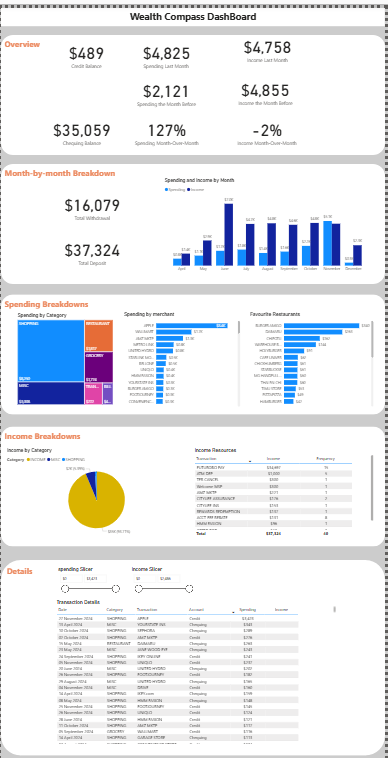

Layout of this report page (visuals, bound fields, positions):
{"tool":"powerbi","page":{"name":"Page 1","canvas":[1280,2520],"ordinal":0},"visuals":[{"type":"shape","box":[0,1838.3,1280,651.7],"z":0},{"type":"shape","box":[0,1396.7,1280,400],"z":1000},{"type":"shape","box":[0,956.7,1280,400],"z":2000},{"type":"shape","box":[0,520,1280,400],"z":3000},{"type":"shape","box":[0,88.3,1280,400],"z":4000},{"type":"card","fields":{"Values":["Transaction.latest credit balance"]},"box":[175,100,218.3,110],"z":5000},{"type":"card","fields":{"Values":["Transaction.latest chequing balance"]},"box":[158.3,343.3,218.3,130],"z":6000},{"type":"card","fields":{"Values":["Transaction.income one month ago"]},"box":[768.3,78.3,235,111.7],"z":7000},{"type":"card","fields":{"Values":["Transaction.spending two month ago"]},"box":[436.7,216.7,231.7,130],"z":8000},{"type":"card","fields":{"Values":["Transaction.spending month-over-month"]},"box":[435,346.7,233.3,131.7],"z":9000},{"type":"textbox","box":[0,0,1279.4,60.5],"z":10000},{"type":"card","fields":{"Values":["Transaction.spending past 30 days"]},"box":[436.7,98.3,233.3,111.7],"z":11000},{"type":"card","fields":{"Values":["Transaction.income two month ago"]},"box":[766.7,210,231.7,133.3],"z":12000},{"type":"card","fields":{"Values":["Transaction.income month-over-month"]},"box":[768.3,346.7,231.7,130],"z":13000},{"type":"clusteredColumnChart","fields":{"Category":["Transaction.Date.Variation.Date Hierarchy.Year","Transaction.Date.Variation.Date Hierarchy.Month","Transaction.Date.Variation.Date Hierarchy.Day"],"Y":["Sum(Transaction.Withdrawal)","Sum(Transaction.Deposit)"]},"box":[538.3,565,696.7,323.3],"z":14000},{"type":"card","fields":{"Values":["Sum(Transaction.Withdrawal)"]},"box":[175,596.7,256.7,130],"z":15000},{"type":"card","fields":{"Values":["Sum(Transaction.Deposit)"]},"box":[175,745,256.7,130],"z":16000},{"type":"treemap","title":"Spending by Category","fields":{"Group":["Transaction.Category"],"Values":["Sum(Transaction.Withdrawal)"]},"box":[48.3,1016.7,328.3,311.7],"z":17000},{"type":"clusteredBarChart","title":"Spending by merchant","fields":{"Category":["Transaction.Transaction_Description"],"Y":["Sum(Transaction.Withdrawal)"]},"box":[405,1011.7,396.7,323.3],"z":18000},{"type":"clusteredBarChart","title":"Favourite Restaurants","fields":{"Category":["Transaction.Transaction_Description"],"Y":["Sum(Transaction.Withdrawal)"]},"box":[825,1011.7,421.7,323.3],"z":19000},{"type":"pieChart","title":"Income by Category","fields":{"Category":["Transaction.Category"],"Y":["Sum(Transaction.Deposit)"]},"box":[16.7,1463.3,606.7,300],"z":20000},{"type":"tableEx","title":"Income Resources","fields":{"Values":["Transaction.Transaction_Description","Sum(Transaction.Deposit)","CountNonNull(Transaction.Deposit)"]},"box":[640,1463.3,606.7,300],"z":21000},{"type":"tableEx","title":"Transaction Details","fields":{"Values":["Transaction.Date","Transaction.Category","Transaction.Transaction_Description","Transaction.Account_Type","Transaction.Withdrawal","Transaction.Deposit"]},"box":[180,1971.7,941.7,486.7],"z":22000},{"type":"slicer","title":"Income Slicer","fields":{"Values":["Transaction.Deposit"]},"box":[431.7,1860,218.3,98.3],"z":23000},{"type":"slicer","title":"spending Slicer","fields":{"Values":["Transaction.Withdrawal"]},"box":[186.7,1860,218.3,98.3],"z":24000}]}

Visuals, with their boxes in screenshot pixels (x1, y1, x2, y2), scaled from the page's 1280x2520 canvas onto the 388x758 screenshot:
shape: [x1=0, y1=553, x2=387, y2=749]
shape: [x1=0, y1=420, x2=387, y2=540]
shape: [x1=0, y1=288, x2=387, y2=408]
shape: [x1=0, y1=156, x2=387, y2=277]
shape: [x1=0, y1=27, x2=387, y2=147]
card - Transaction.latest credit balance: [x1=53, y1=30, x2=119, y2=63]
card - Transaction.latest chequing balance: [x1=48, y1=103, x2=114, y2=142]
card - Transaction.income one month ago: [x1=233, y1=24, x2=304, y2=57]
card - Transaction.spending two month ago: [x1=132, y1=65, x2=203, y2=104]
card - Transaction.spending month-over-month: [x1=132, y1=104, x2=203, y2=144]
textbox: [x1=0, y1=0, x2=387, y2=18]
card - Transaction.spending past 30 days: [x1=132, y1=30, x2=203, y2=63]
card - Transaction.income two month ago: [x1=232, y1=63, x2=303, y2=103]
card - Transaction.income month-over-month: [x1=233, y1=104, x2=303, y2=143]
clusteredColumnChart - Transaction.Date.Variation.Date Hierarchy.Year x Transaction.Date.Variation.Date Hierarchy.Month: [x1=163, y1=170, x2=374, y2=267]
card - Sum(Transaction.Withdrawal): [x1=53, y1=179, x2=131, y2=219]
card - Sum(Transaction.Deposit): [x1=53, y1=224, x2=131, y2=263]
"Spending by Category" treemap: [x1=15, y1=306, x2=114, y2=400]
"Spending by merchant" clusteredBarChart: [x1=123, y1=304, x2=243, y2=402]
"Favourite Restaurants" clusteredBarChart: [x1=250, y1=304, x2=378, y2=402]
"Income by Category" pieChart: [x1=5, y1=440, x2=189, y2=530]
"Income Resources" tableEx: [x1=194, y1=440, x2=378, y2=530]
"Transaction Details" tableEx: [x1=55, y1=593, x2=340, y2=739]
"Income Slicer" slicer: [x1=131, y1=559, x2=197, y2=589]
"spending Slicer" slicer: [x1=57, y1=559, x2=123, y2=589]
